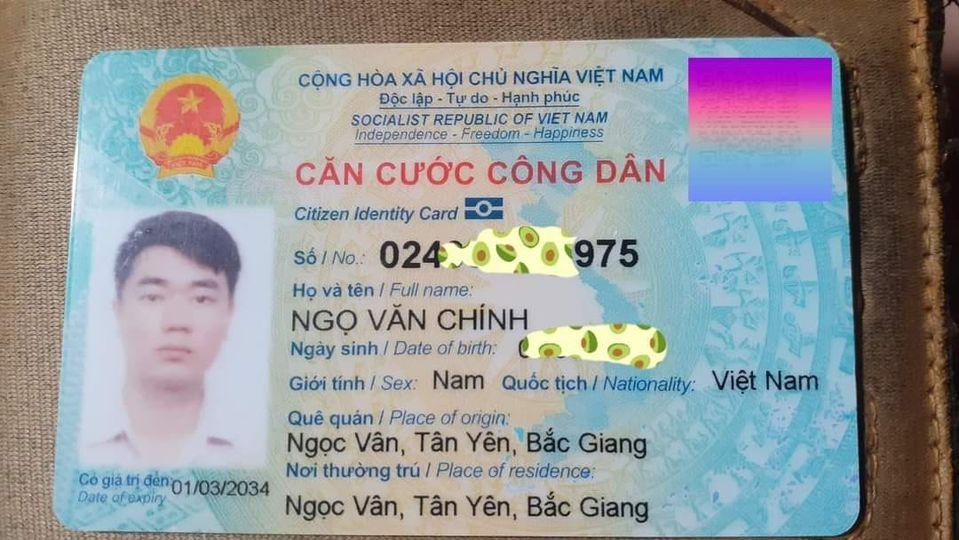bottom_left: (42, 500, 84, 540)
bottom_right: (826, 501, 868, 540)
image_person: (92, 212, 270, 464)
top_left: (76, 42, 122, 85)
top_right: (813, 26, 847, 57)
